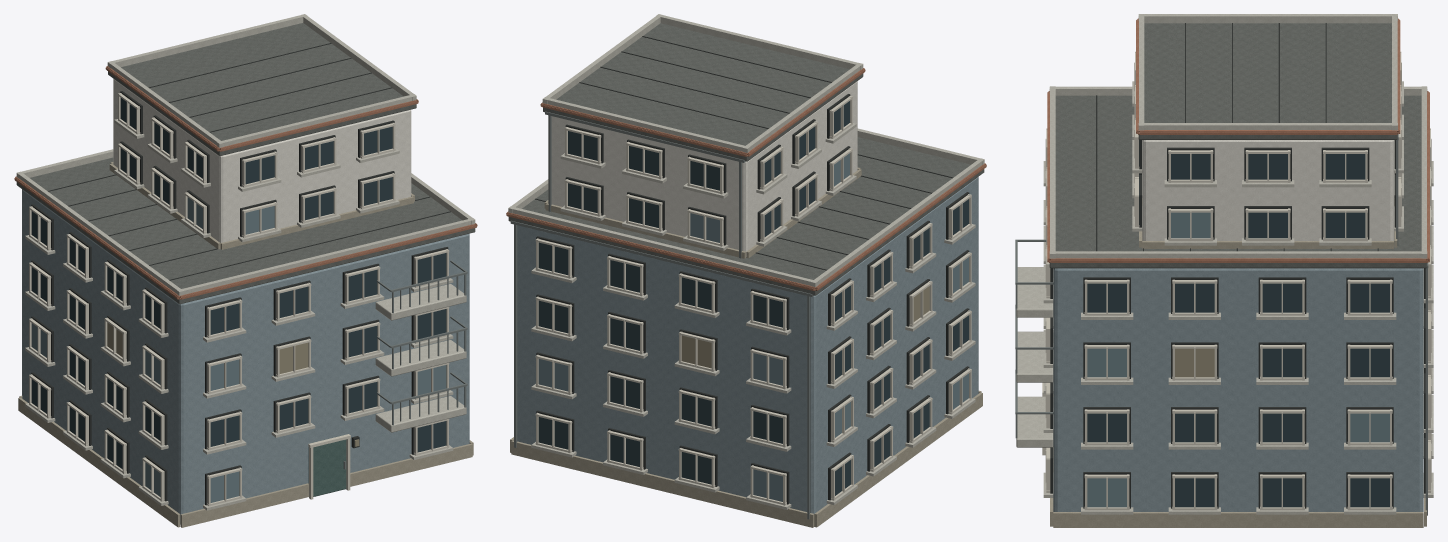
File: RES_MID_2x2_004.glb
3 views of the same model, side by side, from view 1: azimuth 30°, elevation 25°; view 2: azimuth 150°, elevation 25°; view 3: azimuth 270°, elevation 25° (orthographic). The views are drawn at different scales.
Parts seen in each view (by area): view 1: RES_MID_2x2_004_Visual; view 2: RES_MID_2x2_004_Visual; view 3: RES_MID_2x2_004_Visual.
Boxes of the visible parts, <box> form: RES_MID_2x2_004_Visual: <box>14,14,477,527</box>; RES_MID_2x2_004_Visual: <box>506,14,986,527</box>; RES_MID_2x2_004_Visual: <box>1015,14,1433,527</box>.
Size of what is drawn, in the model's own units: 3.31 by 3.5 by 3.39.
Materials: 13 (7 with a texture image).
